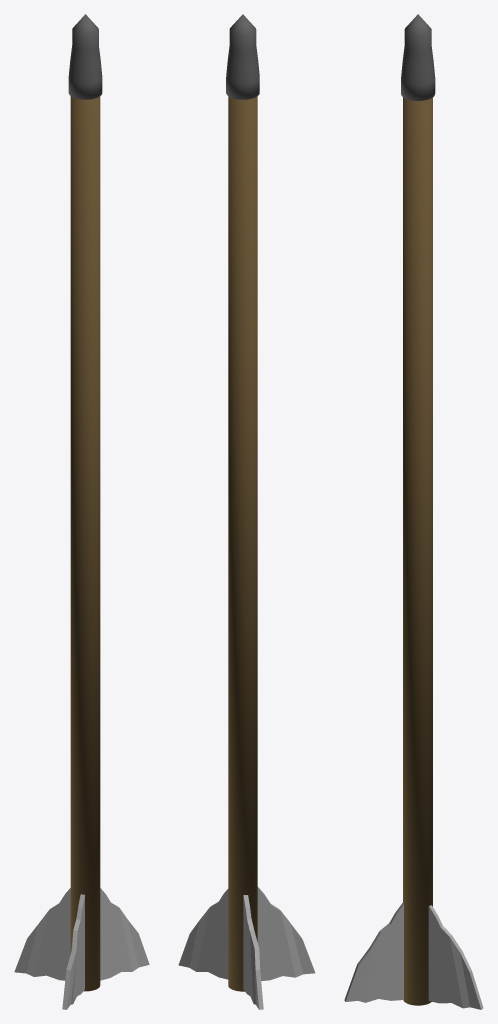
File: Arrow.fbx
The picture shows the model from 3 angles, left to right: view 1: azimuth 30°, elevation 25°; view 2: azimuth 150°, elevation 25°; view 3: azimuth 330°, elevation 25°; orthographic projection.
Parts seen in each view (by area): view 1: Cylinder, Cube, Cube.001, Cylinder.001, Cube.002; view 2: Cylinder, Cube.002, Cube.001, Cylinder.001, Cube; view 3: Cylinder, Cube.002, Cube.001, Cylinder.001.
Part boxes in pixels (box(x1,y1,x2,y2)): Cylinder: box(70, 96, 100, 991); Cube: box(14, 888, 70, 980); Cube.001: box(100, 888, 149, 980); Cylinder.001: box(68, 14, 102, 99); Cube.002: box(62, 894, 84, 1009); Cylinder: box(228, 96, 257, 991); Cube.002: box(257, 886, 315, 980); Cube.001: box(178, 889, 228, 979); Cylinder.001: box(226, 14, 259, 99); Cube: box(243, 895, 263, 1009); Cylinder: box(403, 97, 432, 1005); Cube.002: box(344, 902, 403, 1002); Cube.001: box(428, 905, 483, 1009); Cylinder.001: box(401, 14, 435, 100).
Size of the model in its own units: 11.83 by 98.76 by 9.84.
